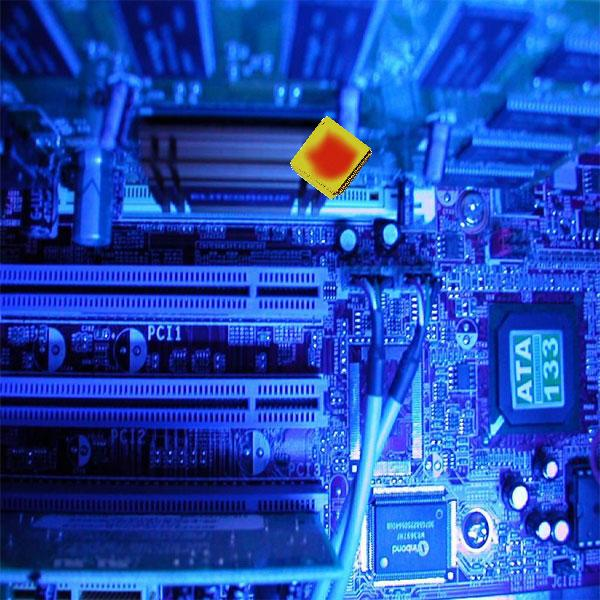componente_T: (288, 114, 376, 202)
